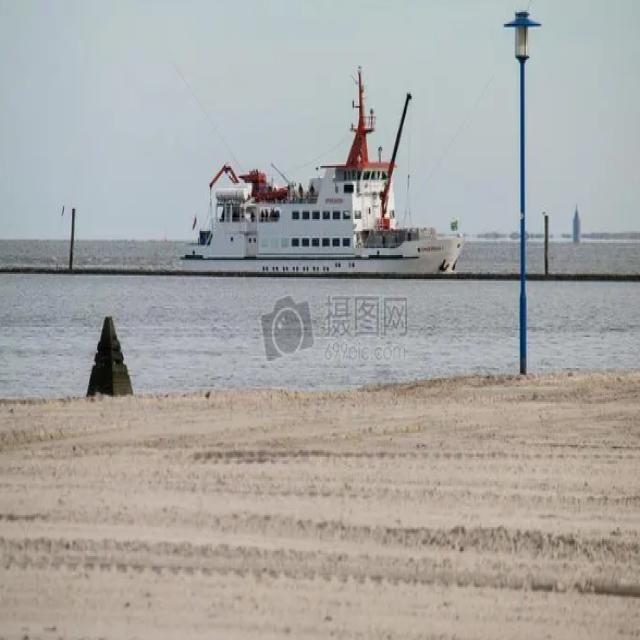passenger ship: (180, 135, 461, 291)
